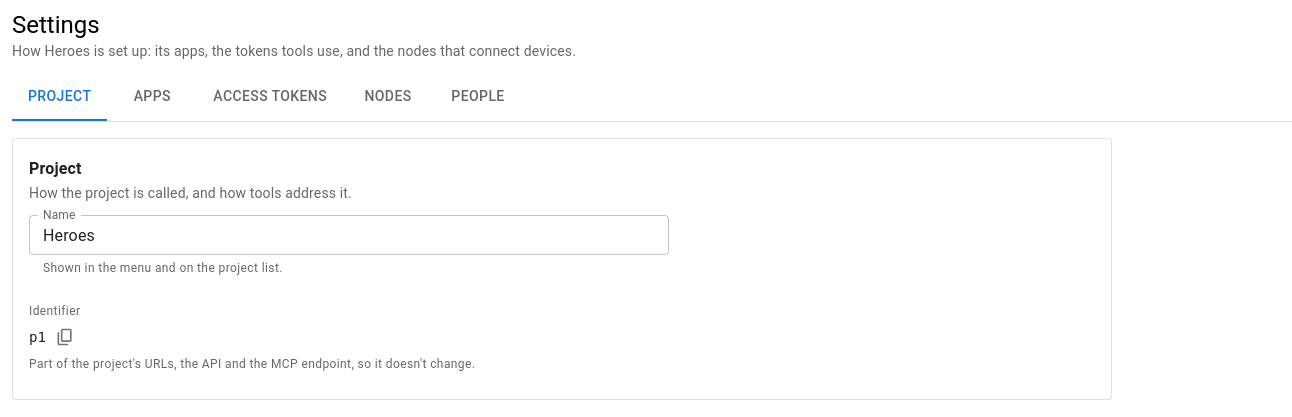
Settings > Project: does not offer saving an empty name
The image size is (1292, 417).
Clear the field labelled "Name": [349, 235] box [29, 215, 669, 255]
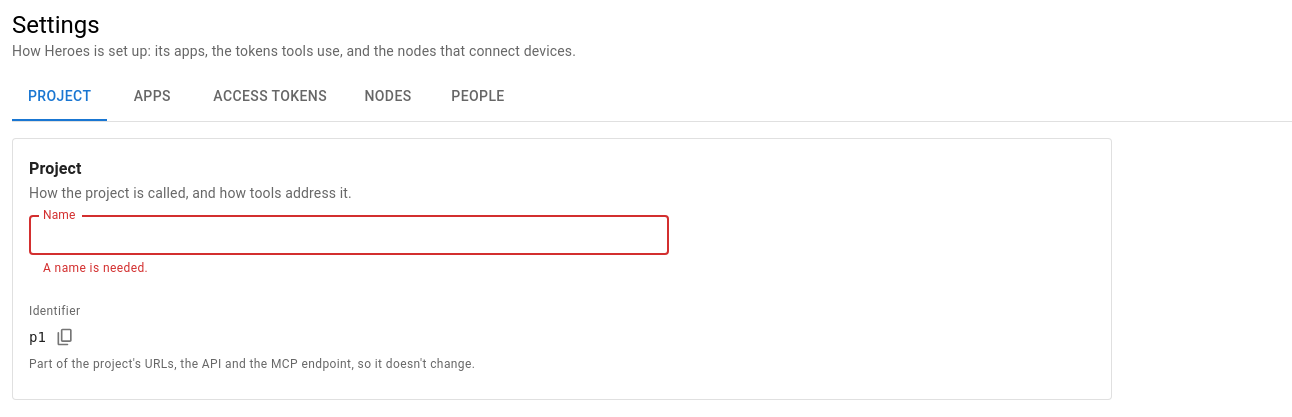
Now the text "A name is needed." is shown, box [43, 261, 148, 275]
